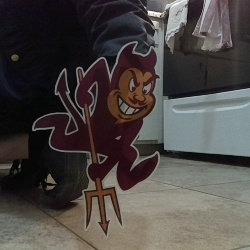sparky: (31, 40, 161, 237)
